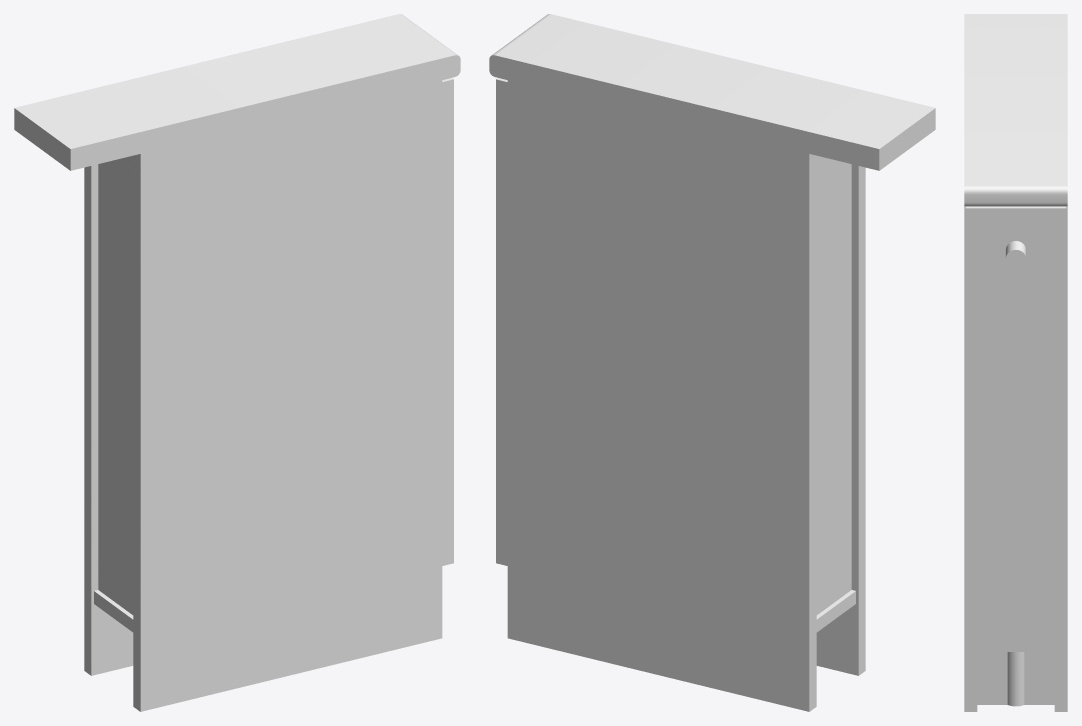
File: 15x60-full_alsokonyha.glb
The picture shows the model from 3 angles, left to right: view 1: azimuth 30°, elevation 25°; view 2: azimuth 150°, elevation 25°; view 3: azimuth 270°, elevation 25°; orthographic projection. The views are drawn at different scales.
Parts seen in each view (by area): view 1: MESH_Korpusz, MESH_Munkapult_Standard, MESH_Labazat_Standard, MESH_Ajto_Sima_Balos; view 2: MESH_Korpusz, MESH_Munkapult_Standard, MESH_Labazat_Standard, MESH_Ajto_Sima_Balos; view 3: MESH_Ajto_Sima_Balos, MESH_Munkapult_Standard, MESH_Labazat_Standard, MESH_Korpusz, MESH_Labazat_Cso, MESH_Fogantyu_cylinder, MESH_Fogantyu_hosszukas.
Part boxes in pixels (<box>): MESH_Korpusz: <box>84,80,442,640</box>; MESH_Munkapult_Standard: <box>14,14,460,170</box>; MESH_Labazat_Standard: <box>84,567,442,711</box>; MESH_Ajto_Sima_Balos: <box>442,78,453,565</box>; MESH_Korpusz: <box>507,80,865,640</box>; MESH_Munkapult_Standard: <box>489,14,935,170</box>; MESH_Labazat_Standard: <box>507,567,865,711</box>; MESH_Ajto_Sima_Balos: <box>496,78,507,565</box>; MESH_Ajto_Sima_Balos: <box>965,206,1066,651</box>; MESH_Munkapult_Standard: <box>964,14,1067,206</box>; MESH_Labazat_Standard: <box>964,646,1067,711</box>; MESH_Korpusz: <box>964,206,1067,646</box>; MESH_Labazat_Cso: <box>1007,652,1024,706</box>; MESH_Fogantyu_cylinder: <box>1005,241,1026,268</box>; MESH_Fogantyu_hosszukas: <box>1012,268,1019,330</box>.
Bounding box in the file's own units: 0.6206 × 0.852 × 0.15.
1 material, 1 textured.
